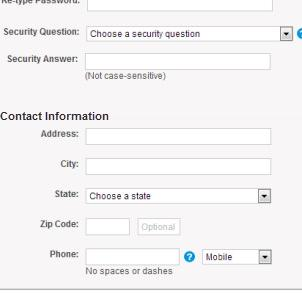field: (83, 156, 273, 175), (86, 26, 294, 43), (83, 127, 273, 145), (82, 53, 271, 70), (86, 187, 273, 204), (82, 248, 181, 265), (201, 248, 273, 265), (82, 217, 131, 236)
field_with_label: (5, 24, 296, 44), (7, 51, 273, 71), (40, 125, 274, 146), (62, 155, 275, 176), (56, 185, 275, 204), (50, 246, 183, 266), (40, 215, 132, 237)
